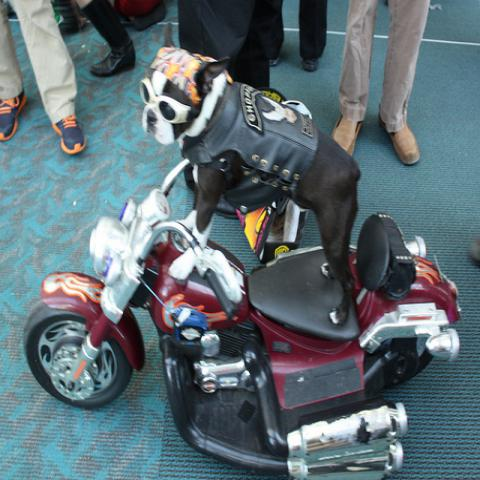motorcycle: (20, 135, 457, 472)
